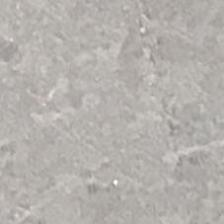Non_Crack: (9, 3, 224, 223)
